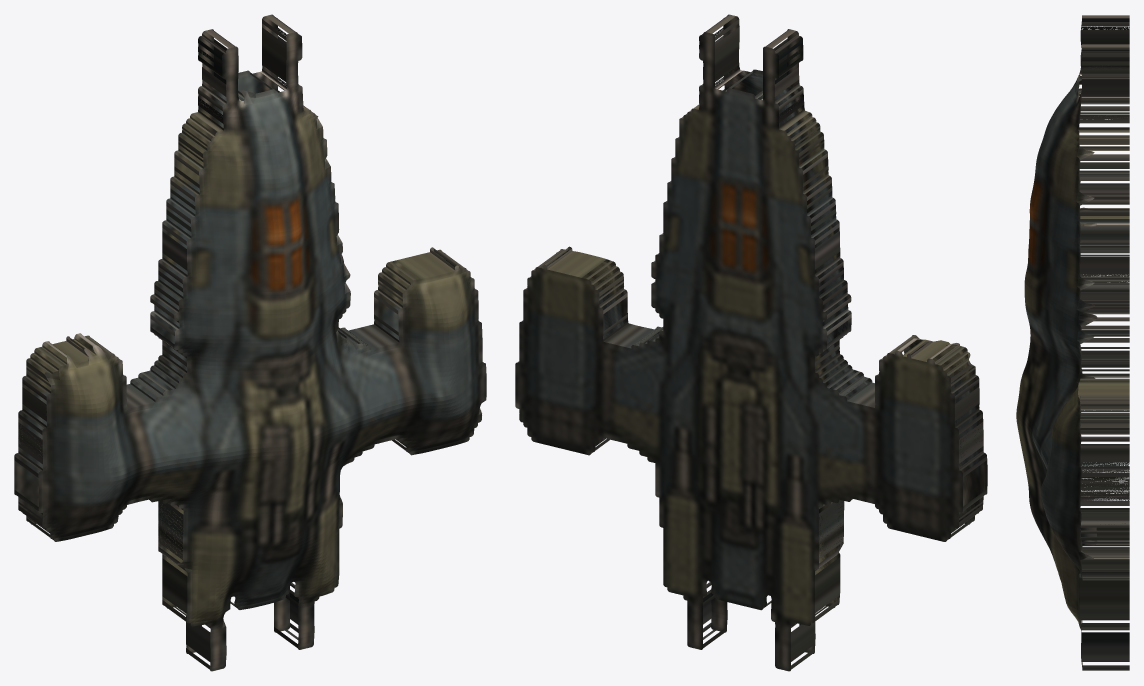
The model's file is authority_generated_mesh.obj.
3 renders of one model, left to right at view 1: azimuth 30°, elevation 25°; view 2: azimuth 150°, elevation 25°; view 3: azimuth 270°, elevation 25°, orthographic.
Visible parts, largest first — view 1: authority_generated_craft; view 2: authority_generated_craft; view 3: authority_generated_craft.
Part boxes in pixels (box(x1,y1,x2,y2)): authority_generated_craft: box(14, 14, 486, 671); authority_generated_craft: box(515, 14, 987, 671); authority_generated_craft: box(1016, 15, 1129, 670).
Size of the model in its own units: 3.85 by 5.09 by 0.8487.
Materials: 1 (1 with a texture image).
